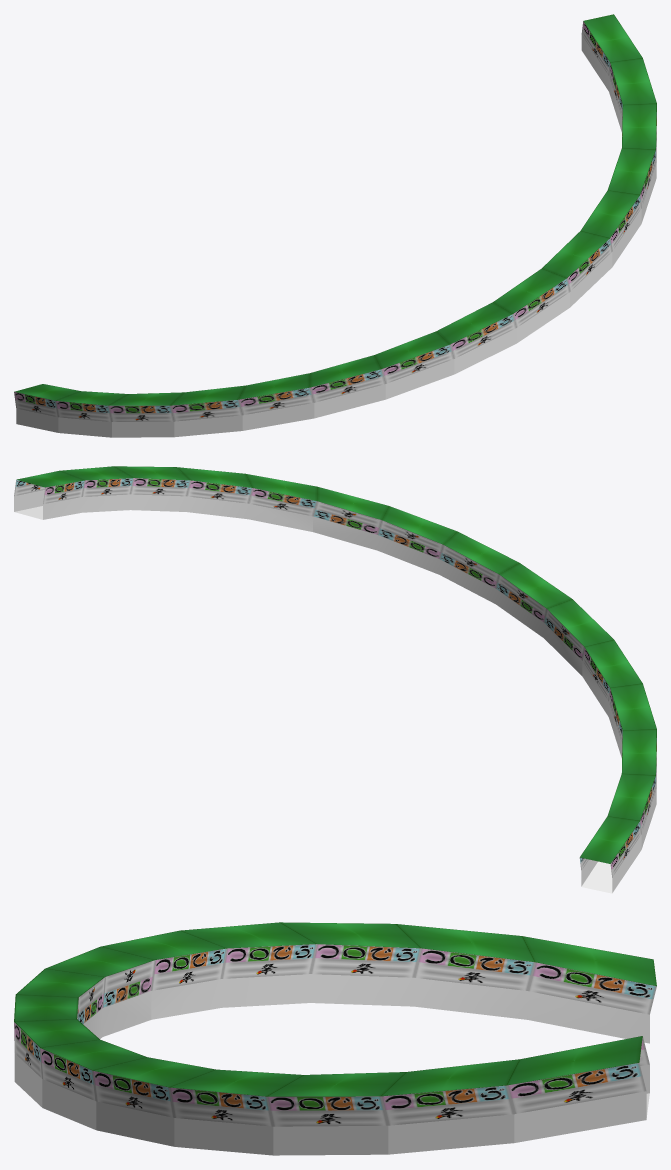
File: CourseWinter_Wall_R_17.fbx
The picture shows the model from 3 angles, top to bottom: view 1: azimuth 30°, elevation 25°; view 2: azimuth 150°, elevation 25°; view 3: azimuth 270°, elevation 25°; orthographic projection. The views are drawn at different scales.
Visible parts, largest first — view 1: polySurface452; view 2: polySurface452; view 3: polySurface452.
Boxes of the visible parts, x1=… form: polySurface452: x1=14, y1=14, x2=656, y2=437; polySurface452: x1=14, y1=466, x2=656, y2=893; polySurface452: x1=14, y1=922, x2=656, y2=1155.
Bounding box in the file's own units: 39.86 × 16.97 × 20.16.
1 material, 1 textured.
